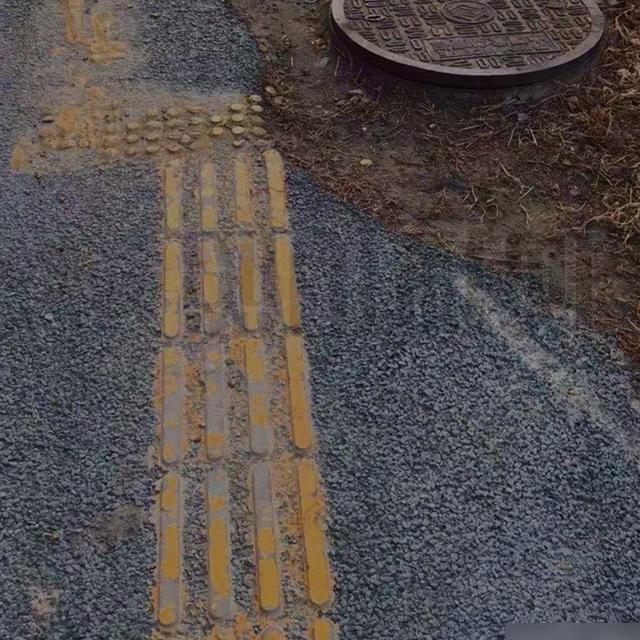uncovered: (312, 0, 610, 98)
